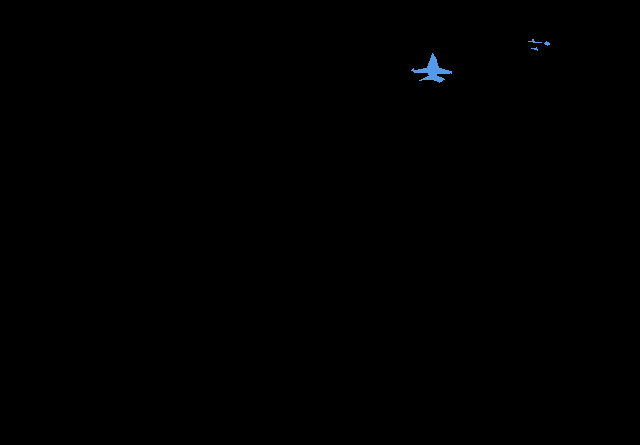Airplane: (411, 53, 451, 82), (528, 39, 542, 43), (544, 41, 550, 45), (531, 47, 537, 50)
